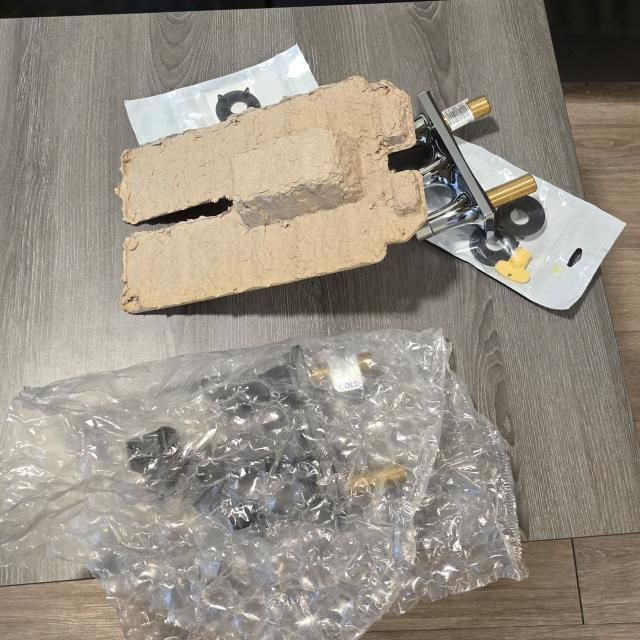10o: (414, 91, 537, 240)
12o: (428, 176, 625, 309), (454, 136, 525, 191)
13o: (125, 44, 318, 145)
9c: (0, 329, 525, 640)
